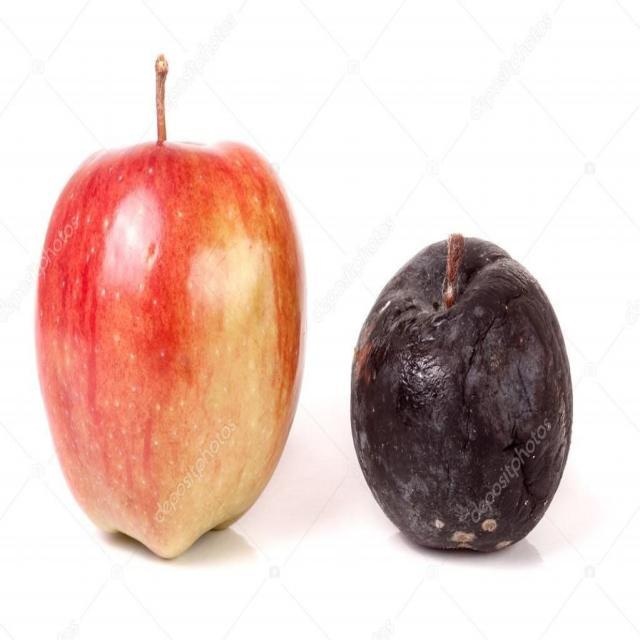Fresh Apple: (44, 135, 298, 565)
Rotten: (350, 252, 595, 552)
